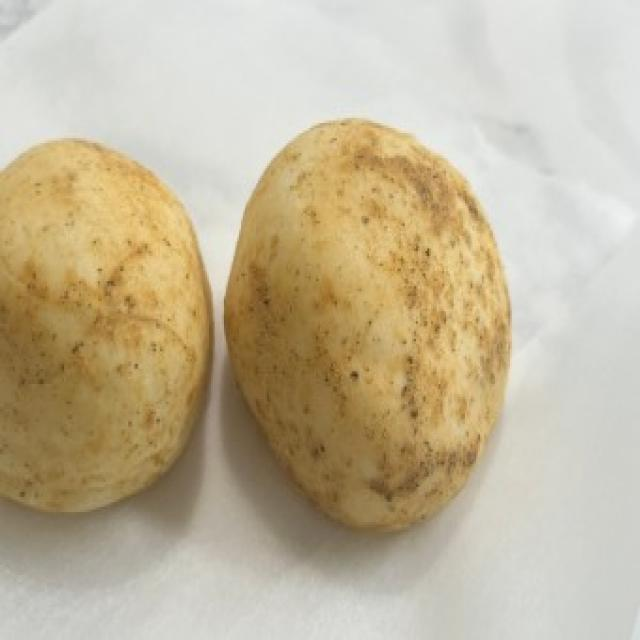potato: (221, 117, 514, 537), (0, 132, 215, 517)
